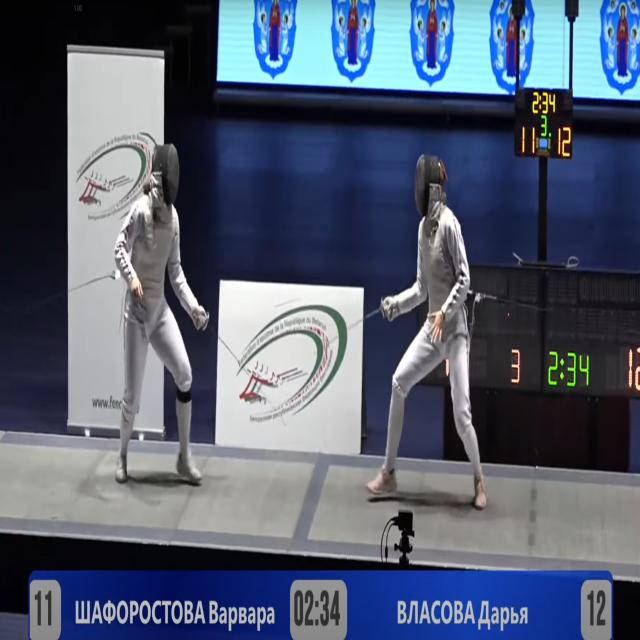fencer: (105, 3, 208, 492), (371, 162, 494, 519)
overlayLeft: (65, 573, 293, 640)
overlayRight: (342, 572, 559, 640)
scoreLeft: (29, 576, 63, 640)
scoreRight: (574, 573, 612, 640)
